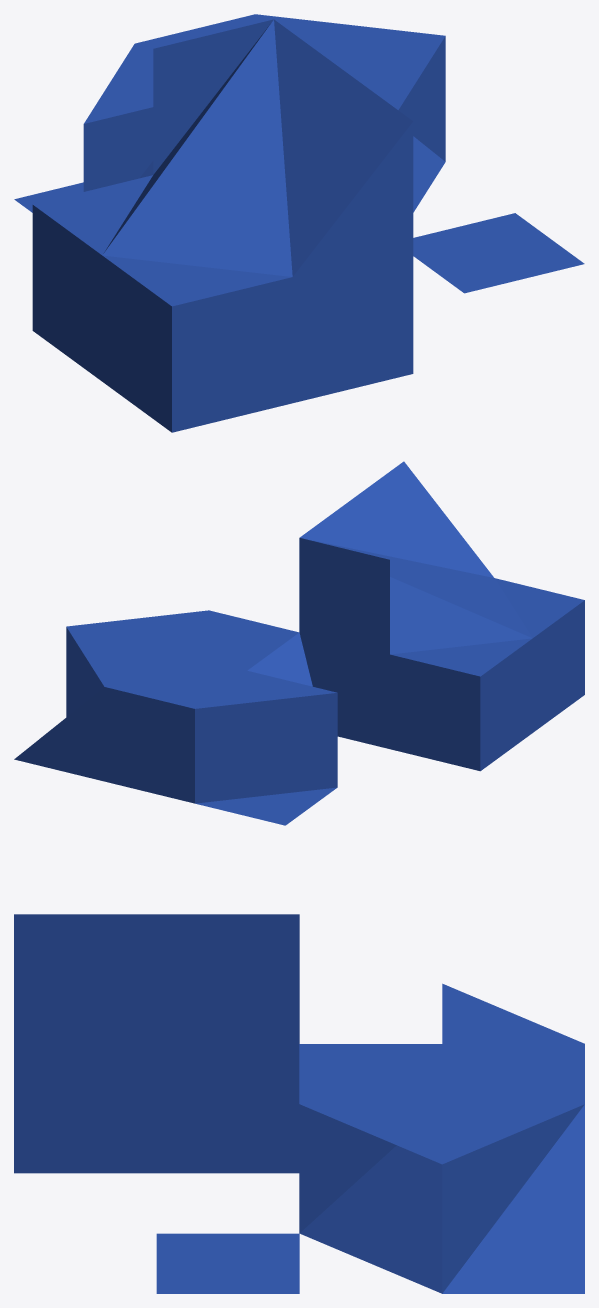
Rendered from C3ROCKB_H.obj.
The picture shows the model from 3 angles, top to bottom: view 1: azimuth 30°, elevation 25°; view 2: azimuth 150°, elevation 25°; view 3: azimuth 270°, elevation 25°; orthographic projection. The views are drawn at different scales.
Visible parts, largest first — view 1: Node 0; view 2: Node 0; view 3: Node 0.
Part boxes in pixels (box(x1,y1,x2,y2)): Node 0: box(14, 14, 584, 432); Node 0: box(14, 461, 584, 825); Node 0: box(14, 914, 584, 1293).
Size of the model in its own units: 0.04 by 0.02 by 0.04.
1 material, 1 textured.
